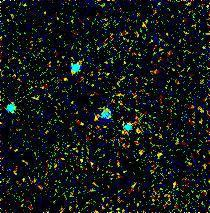star: (80, 104, 110, 134)
